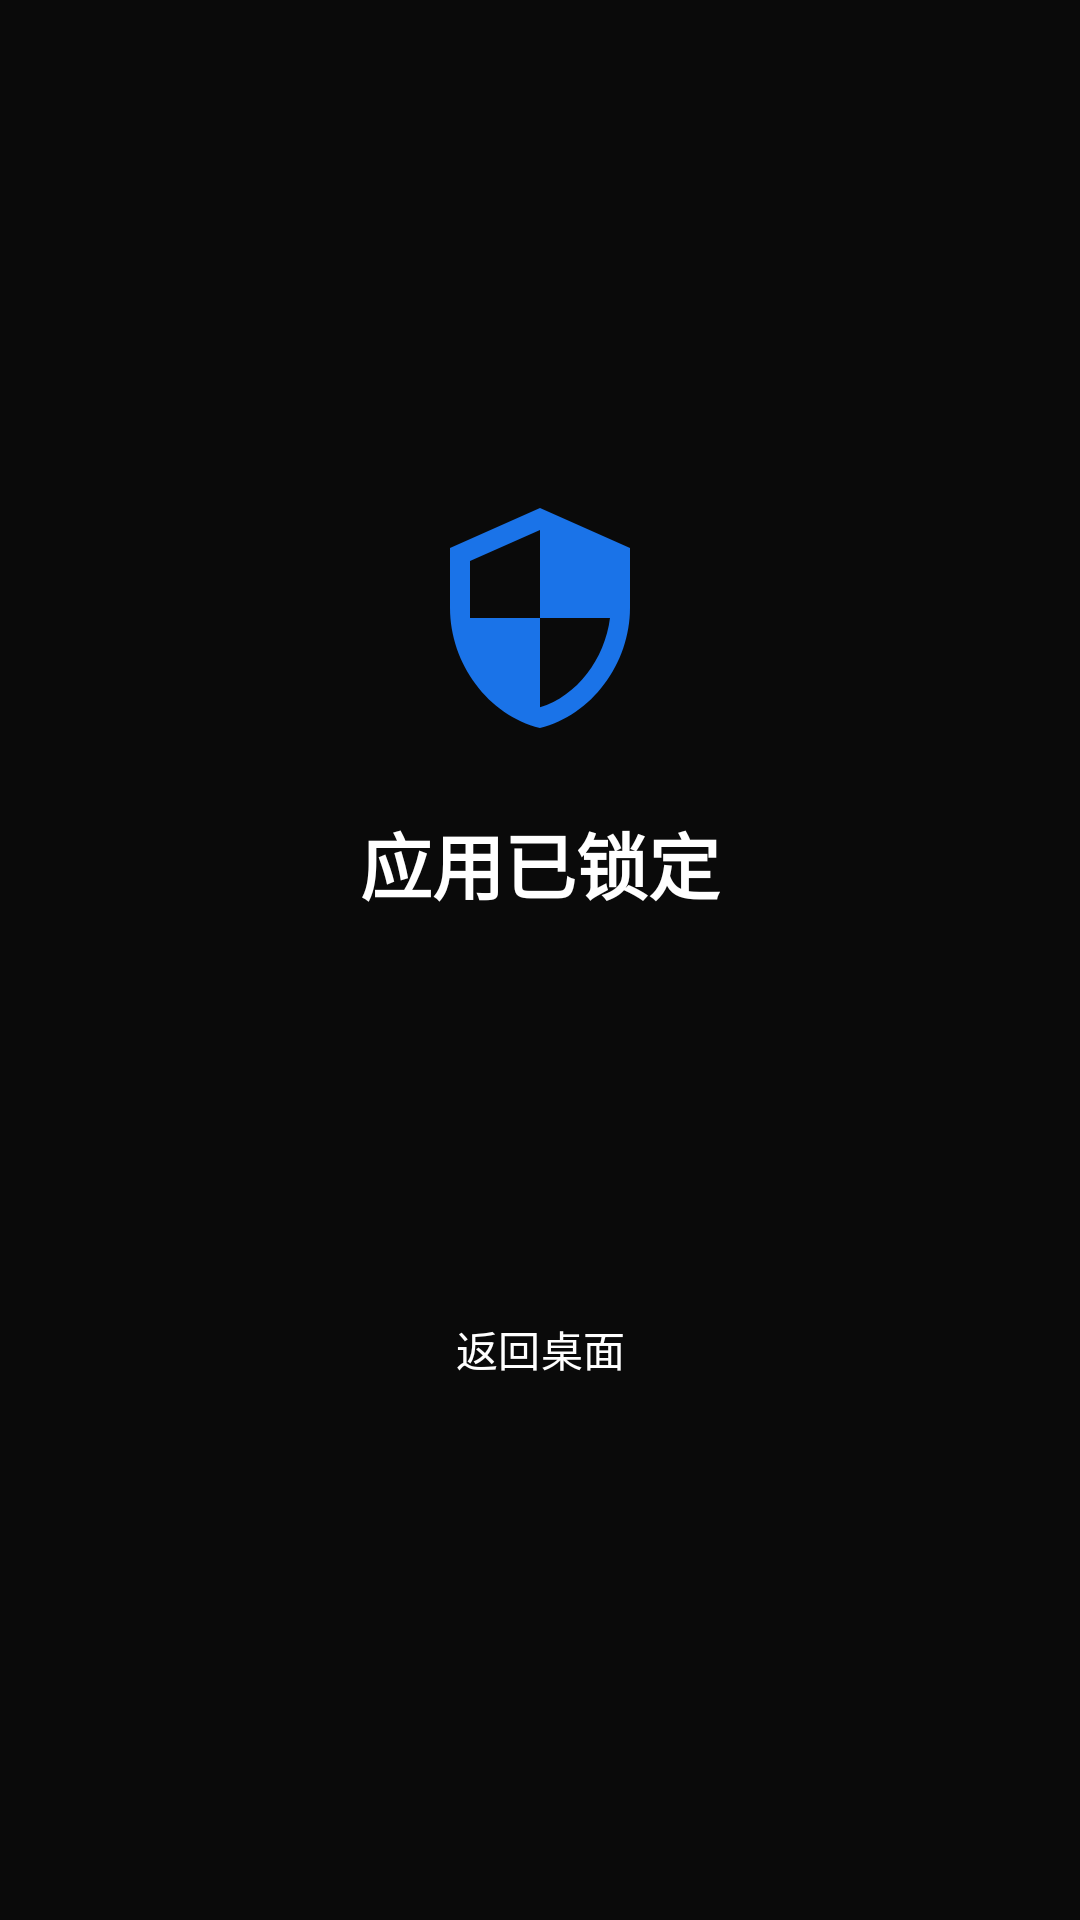

Named icons in this screenshot (1080px x 1920px) and their bounding boxes, (x1, y1, x2, y2):
shield: (450, 508, 630, 728)
